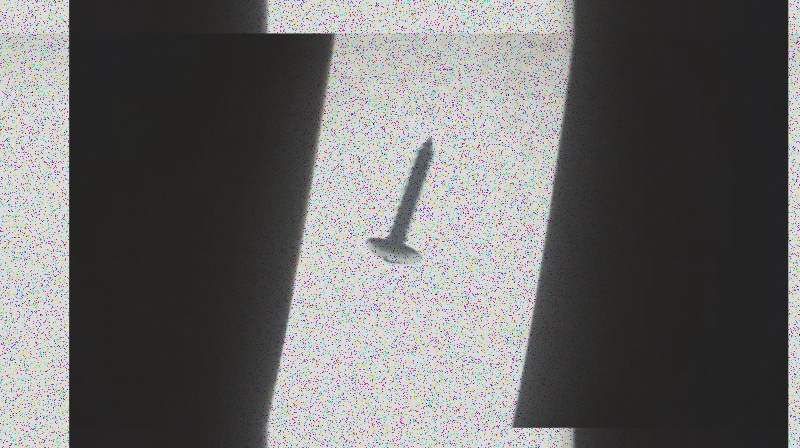S003: (362, 135, 435, 270)
